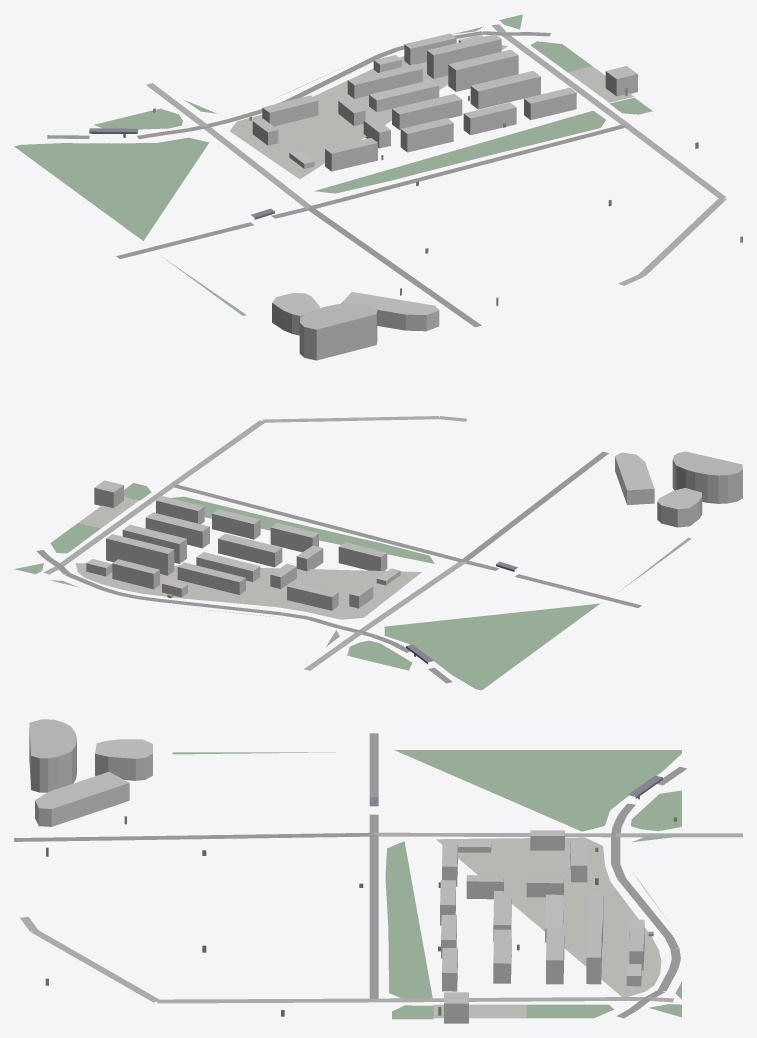
3 views of the same model, one above another, from view 1: azimuth 30°, elevation 25°; view 2: azimuth 150°, elevation 25°; view 3: azimuth 270°, elevation 25° (orthographic). The views are drawn at different scales.
Size of the model in its own units: 542 by 31.09 by 557.
